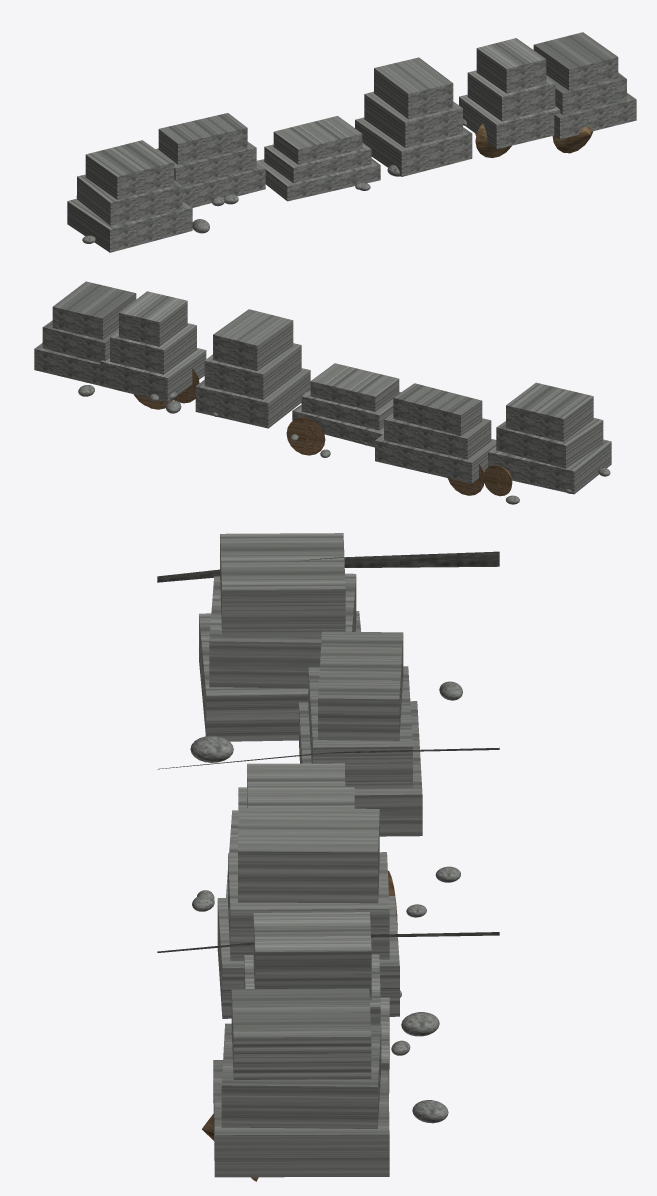
Rendered from background_quarry_mp_batched.glb.
3 renders of one model, top to bottom at view 1: azimuth 30°, elevation 25°; view 2: azimuth 150°, elevation 25°; view 3: azimuth 270°, elevation 25°, orthographic. The views are drawn at different scales.
Visible parts, largest first — view 1: StaticGeometry; view 2: StaticGeometry; view 3: StaticGeometry.
Part boxes in pixels (x1,y1,x2,y2): StaticGeometry: [67, 32, 636, 252]; StaticGeometry: [34, 281, 611, 504]; StaticGeometry: [157, 533, 499, 1181].
Bounding box in the file's own units: 89.28 × 16.04 × 24.
Materials: 3 (3 with a texture image).
